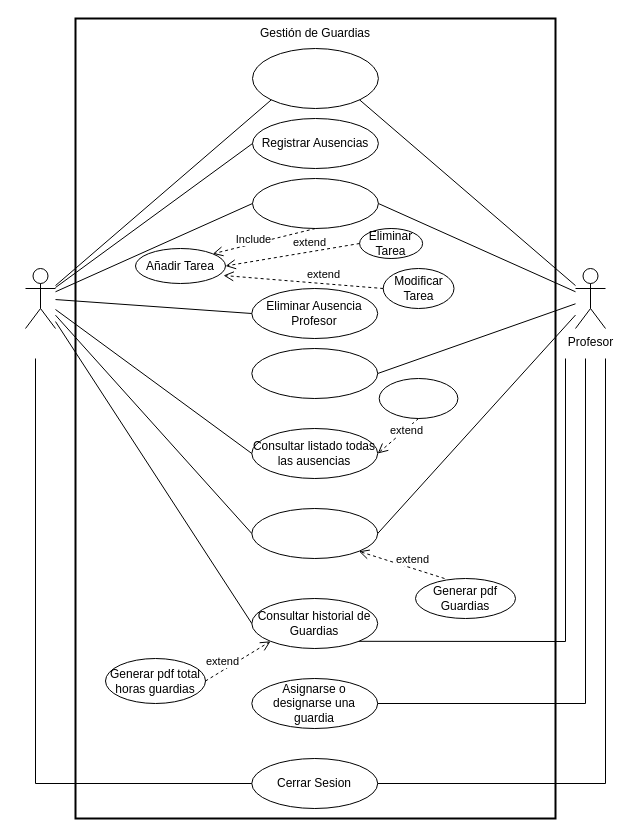
The diagram is 630 pixels wide and 836 high, and some of its shapes have lost their labels. Here are the shapes that lost their labels. From the top down, the centre of each, then its label:
At (x=315, y=78): "Login".
At (x=315, y=203): "Registrar Ausencia Propia".
At (x=40, y=298): "Directivo".
At (x=314, y=373): "Eliminar Ausencia Propia".
At (x=418, y=398): "Filtrar por fecha y/o profesor".
At (x=314, y=533): "Consultar guardias".
